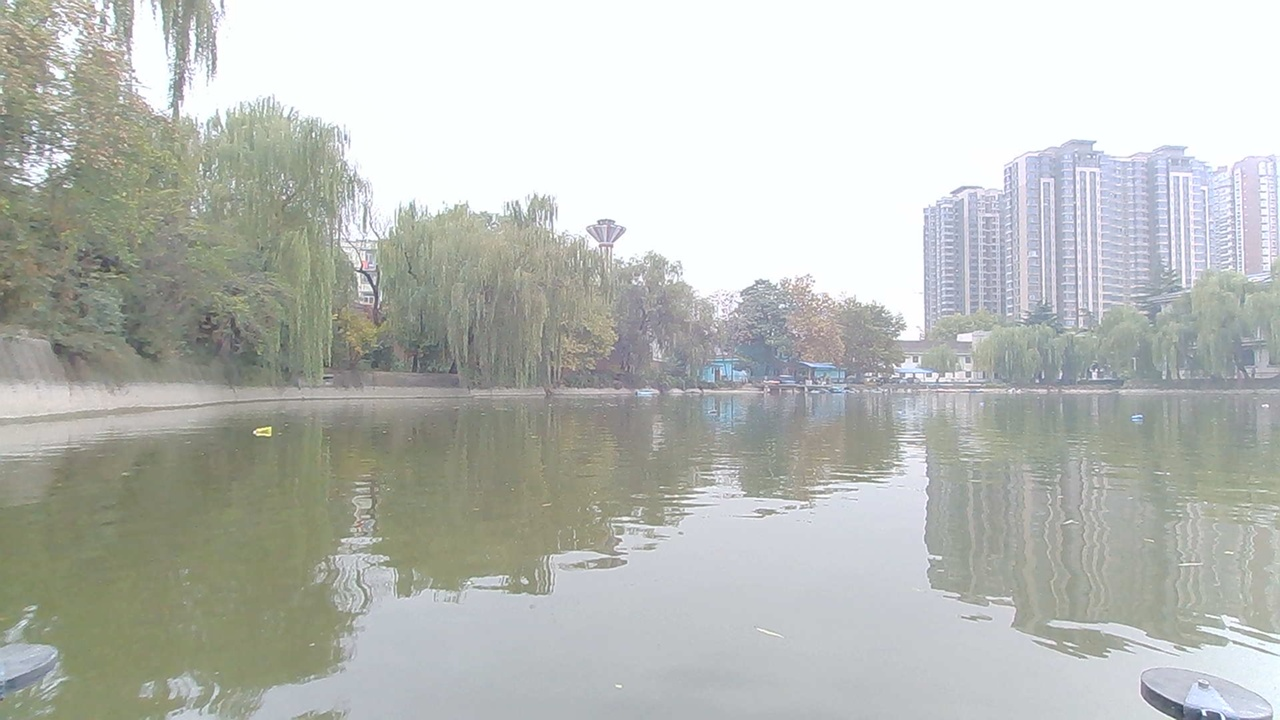bottle: (248, 418, 282, 441), (1125, 407, 1156, 430), (702, 405, 731, 420)
